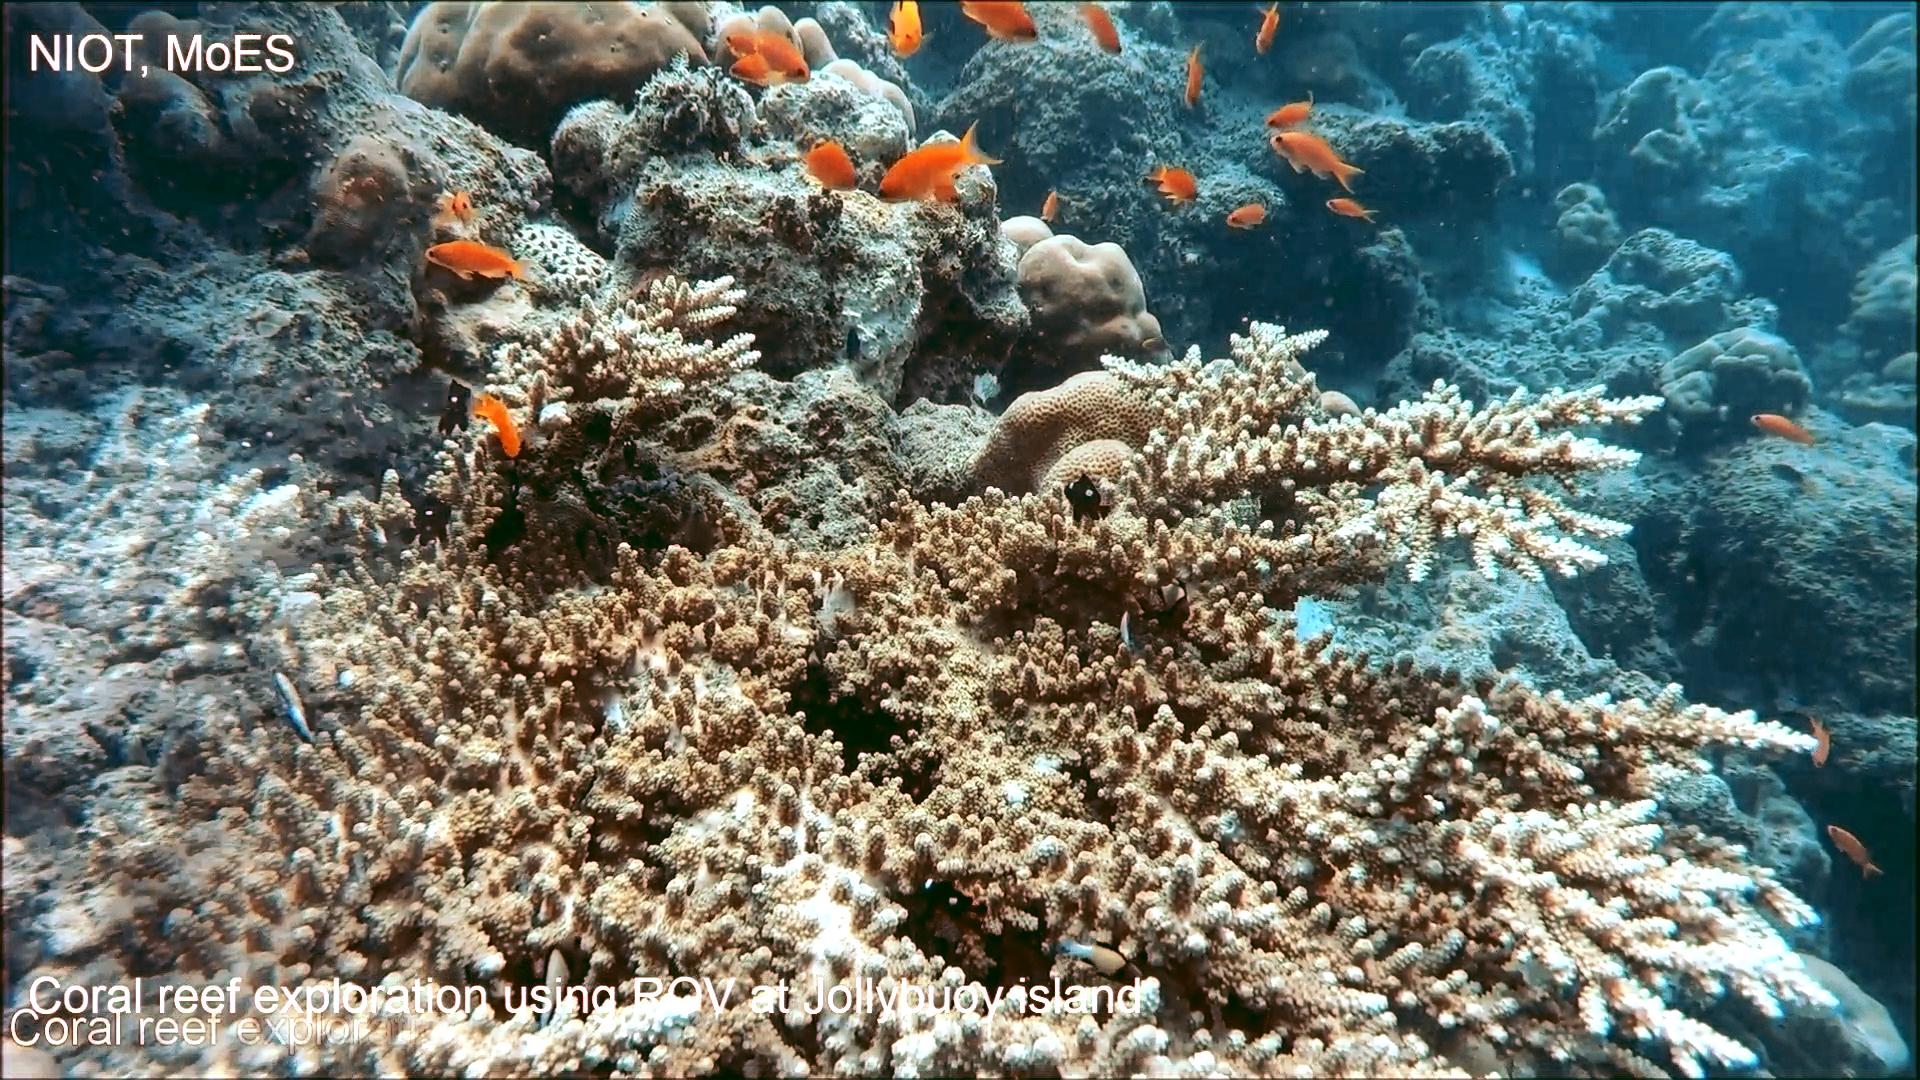Porites-Porites pukoensis: (386, 0, 723, 141)
